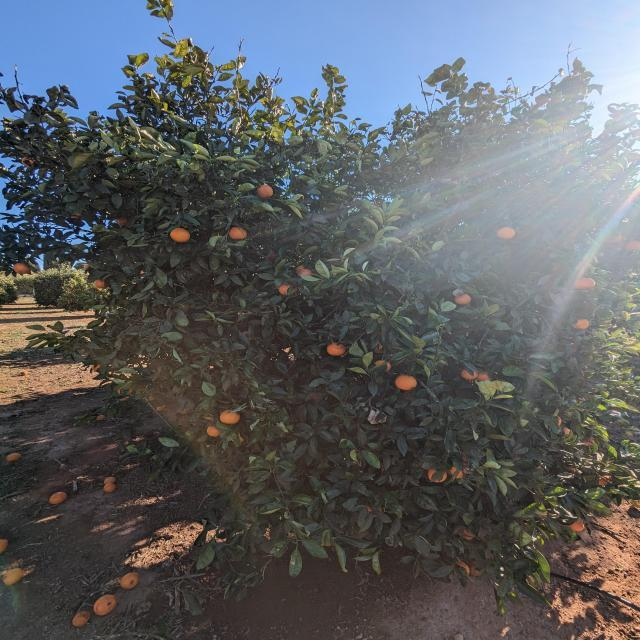Jeruk Sudah Matang: (220, 409, 242, 424), (395, 376, 417, 390), (426, 468, 448, 482), (170, 227, 190, 242), (326, 342, 346, 356), (574, 278, 596, 290), (229, 226, 247, 240), (276, 283, 296, 295), (460, 369, 480, 381), (256, 185, 274, 198), (498, 226, 516, 238), (572, 318, 590, 329), (12, 262, 30, 272), (568, 522, 586, 532), (456, 294, 472, 304), (206, 424, 219, 436), (627, 240, 640, 252), (452, 467, 464, 478), (298, 268, 312, 277), (476, 372, 490, 379), (95, 280, 106, 288), (294, 264, 304, 270)
